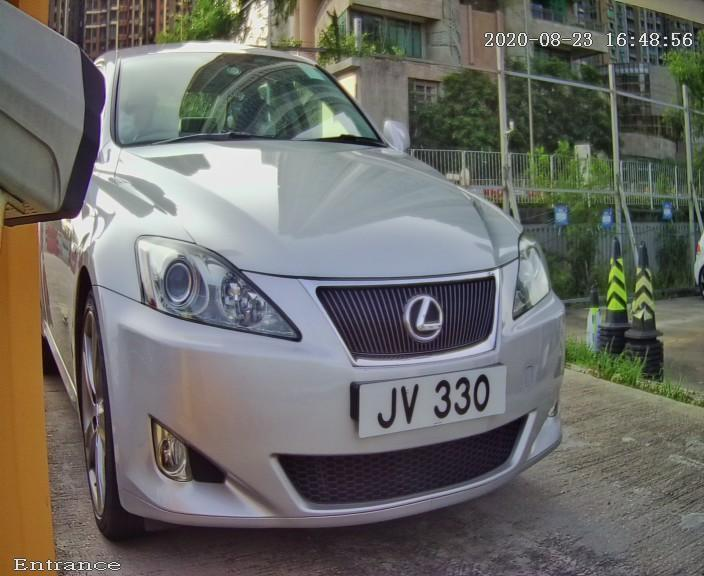Car: (29, 11, 610, 569)
License Plate: (320, 333, 546, 463)
